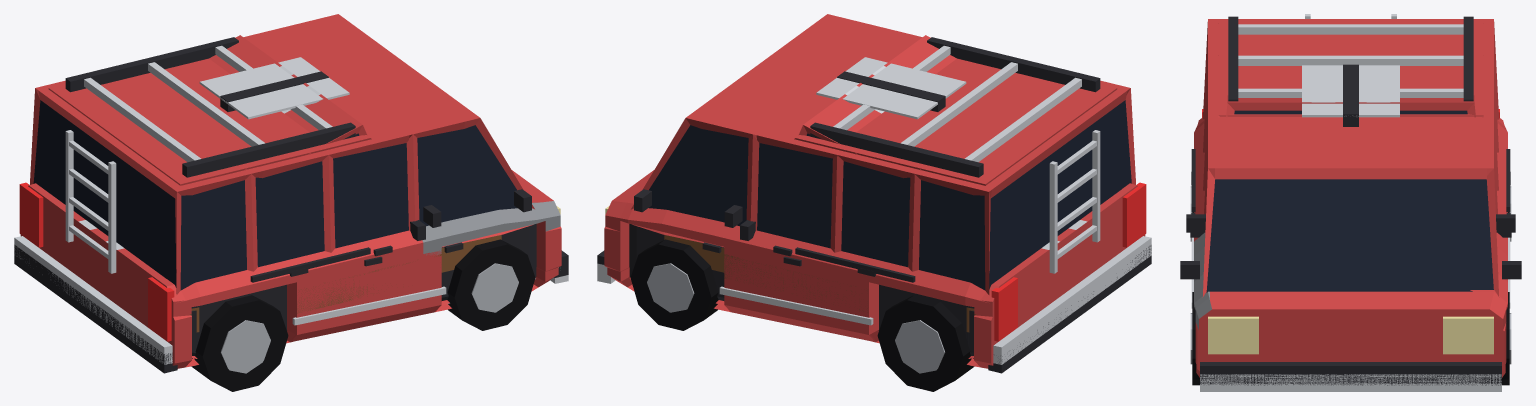
The model's file is cars.glb.
3 renders of one model, left to right at view 1: azimuth 30°, elevation 25°; view 2: azimuth 150°, elevation 25°; view 3: azimuth 270°, elevation 25°, orthographic.
Parts seen in each view (by area): view 1: KeiVan, Wagon, Coupe; view 2: KeiVan, Wagon, Coupe; view 3: KeiVan, Wagon, Coupe.
Part boxes in pixels (x1,y1,x2,y2): KeiVan: (14,14,568,391); Wagon: (14,37,568,371); Coupe: (14,35,568,391); KeiVan: (604,14,1151,391); Wagon: (597,37,1151,371); Coupe: (597,35,1151,391); KeiVan: (1180,14,1521,385); Wagon: (1186,16,1515,383); Coupe: (1190,95,1511,391).
Size of the model in its own units: 2.4 by 1.24 by 1.74.
